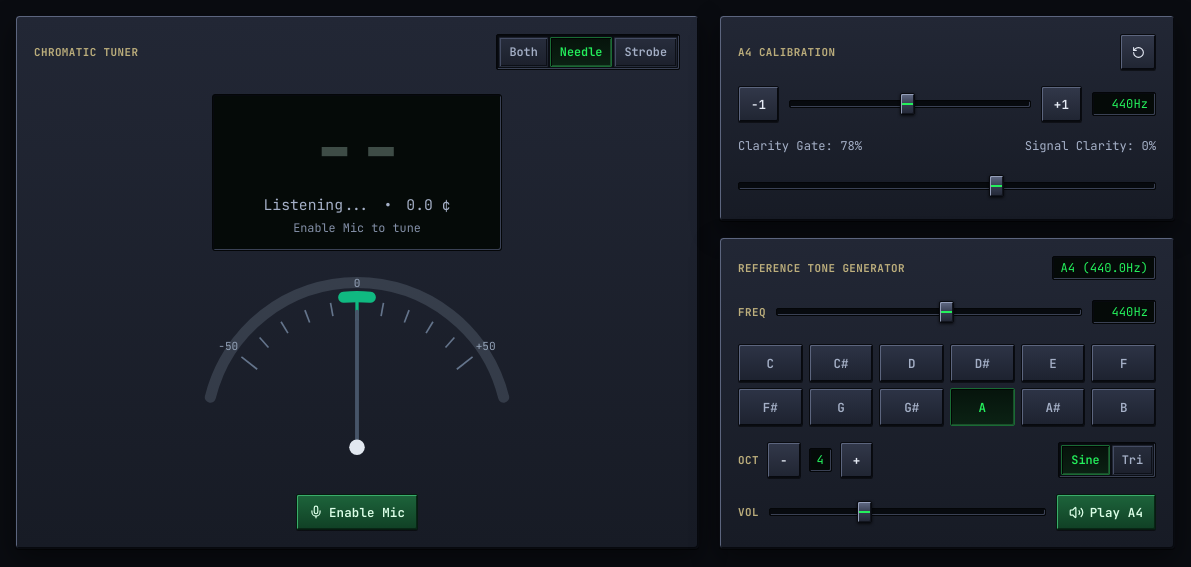
Tuner Defaults, Tone Frequency Slider & Focus-Loss Behavior › defaults Tuner viewMode to "needle" with strobe disabled
This screenshot has width=1191, height=567.
Check: the icon named "Cents Needle Meter" is shown, box [157,275,557,470]
Click the button "Strobe".
click(646, 52)  # box [614,37,677,67]
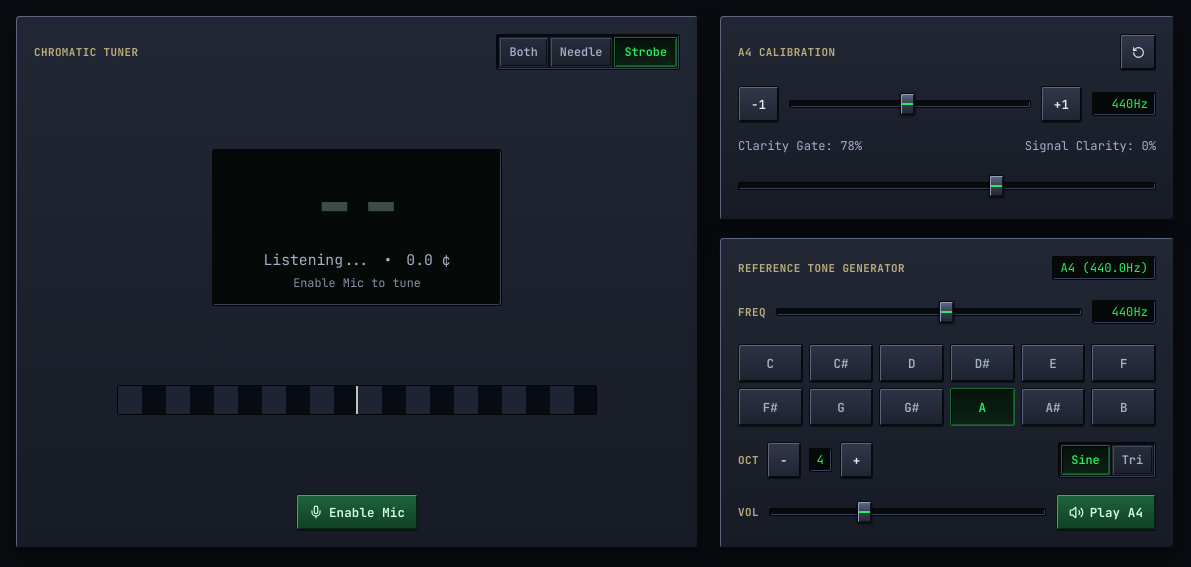
Check: the element with class "strobe-strip" is shown, box [117,385,597,415]
